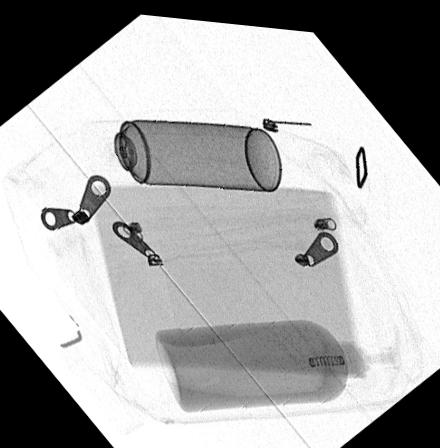Sprayer: (79, 117, 282, 186)
